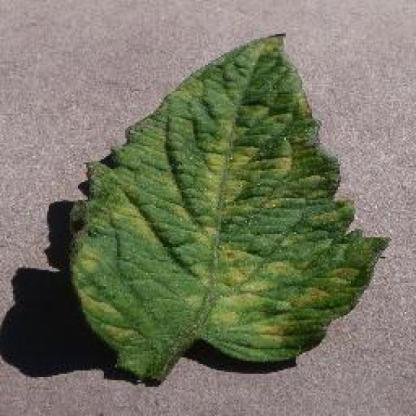Tomato_Leaf_Mold: (69, 31, 388, 379)
